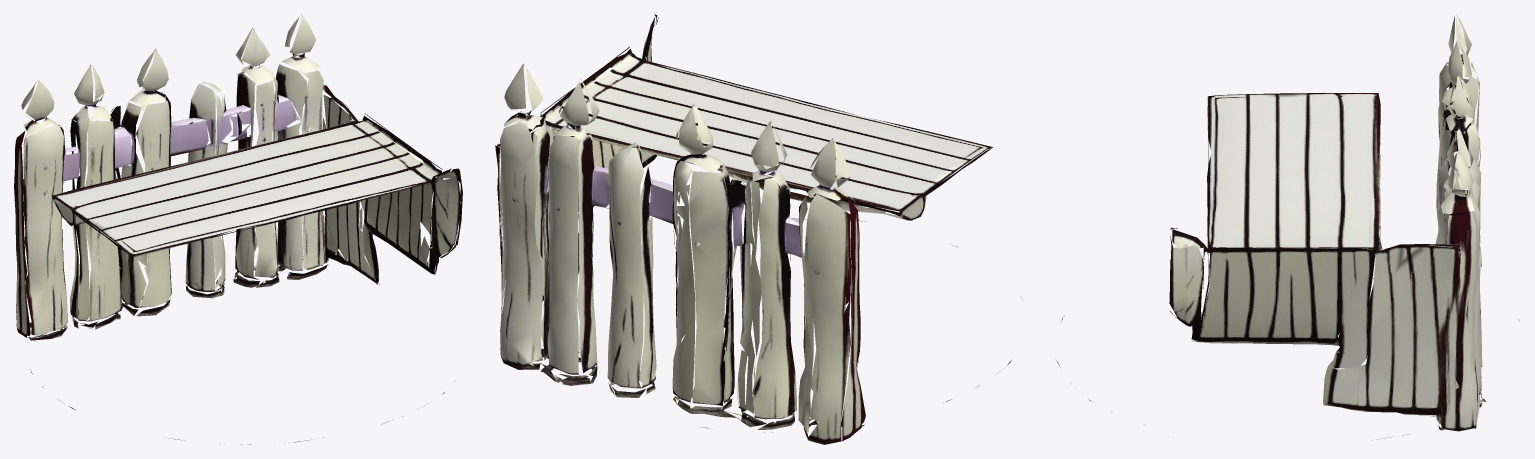
File: bahce_citi.glb
The picture shows the model from 3 angles, left to right: view 1: azimuth 30°, elevation 25°; view 2: azimuth 150°, elevation 25°; view 3: azimuth 270°, elevation 25°; orthographic projection. The views are drawn at different scales.
Visible parts, largest first — view 1: geometry_0; view 2: geometry_0; view 3: geometry_0.
Boxes of the visible parts, x1,y1,x2,y2 form: geometry_0: (14, 14, 462, 444); geometry_0: (495, 14, 1011, 444); geometry_0: (1056, 15, 1519, 438).
Size of the model in its own units: 0.9901 by 0.6413 by 0.9752.
1 material, 1 textured.
